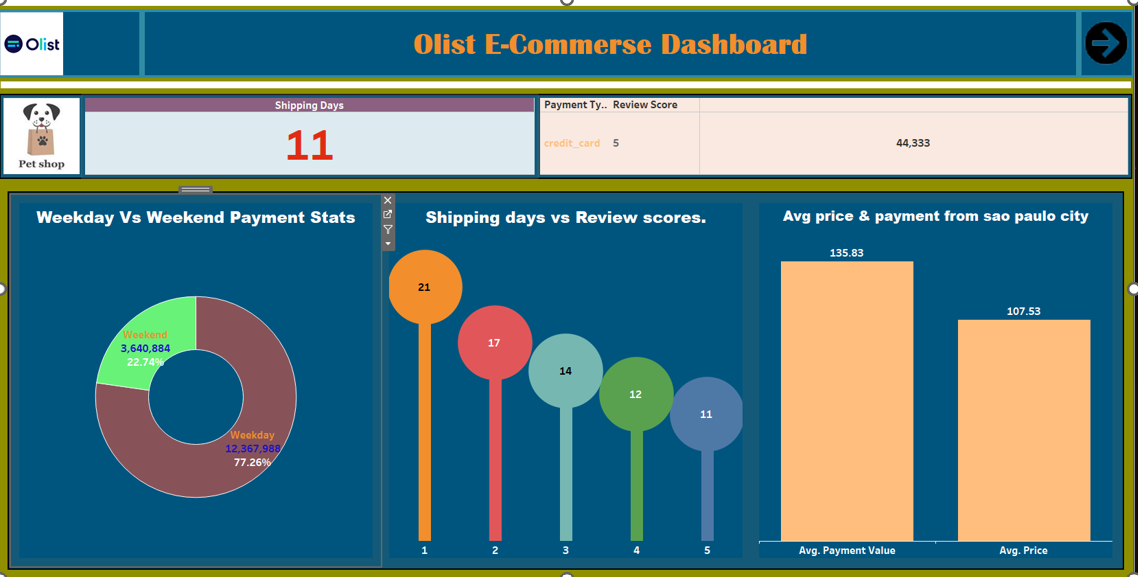

The dashboard page shown, as its layout file describes it:
{"tool":"tableau","page":{"name":"Master Dashboard","canvas":[1000,1000],"units":"permille","ordinal":5},"visuals":[{"type":"blank","box":[0,0,1000,23.5]},{"type":"image","param":"C:/Users/afrin/Downloads/olist.png","box":[0,23.5,127.3,117.5]},{"type":"text","box":[127.3,23.5,823.8,117.5]},{"type":"dashboard-object","box":[951.1,23.5,48.9,117.5]},{"type":"blank","box":[0,141,1000,23.5]},{"type":"image","param":"C:/Users/afrin/Downloads/pet.jpg","box":[3,170.4,71.8,141]},{"type":"worksheet","title":"KPI - 3","mark":"Automatic","rows":["product_category_name"],"box":[74.8,170.4,400.1,141]},{"type":"worksheet","title":"Sheet 21","mark":"Automatic","rows":["payment_type","review_score"],"box":[475,170.4,522,141]},{"type":"worksheet","title":"Donut-ww","mark":"Pie","rows":["Calculation_264023543316213761","Calculation_264023543316226051"],"box":[12.1,340.8,325.3,635.7]},{"type":"worksheet","title":"KPI - 5","mark":"Automatic","rows":["Calculation_450922927159508995","Calculation_450922927159508995"],"cols":["review_score"],"box":[337.4,340.8,325.3,635.7]},{"type":"worksheet","title":"KPI - 4","mark":"Automatic","box":[662.6,340.8,325.3,635.7]}]}

Visuals, with their boxes on the dashboard's canvas, which has no fixed pixel size, in thousandths of its width and height (x1, y1, x2, y2). These are canvas units, not pixel positions in the 1138x577 screenshot, which may show the page scaled, cropped or inside an application window:
blank: 0 0 1000 24
image: 0 24 127 141
text: 127 24 951 141
dashboard-object: 951 24 1000 141
blank: 0 141 1000 164
image: 3 170 75 311
"KPI - 3" worksheet: 75 170 475 311
"Sheet 21" worksheet: 475 170 997 311
"Donut-ww" worksheet (Pie marks): 12 341 337 976
"KPI - 5" worksheet: 337 341 663 976
"KPI - 4" worksheet: 663 341 988 976
